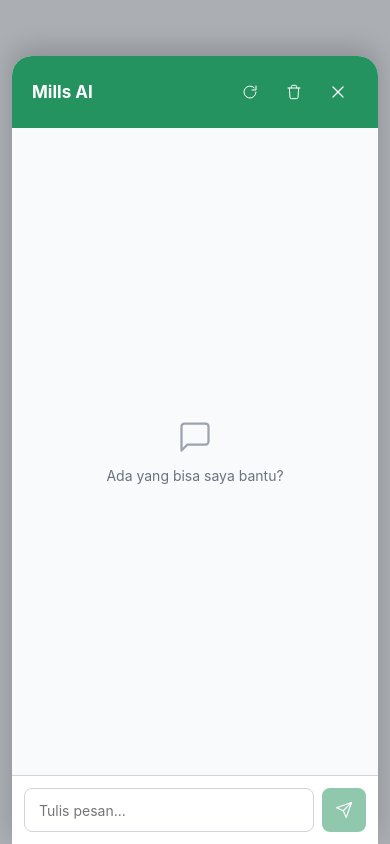
AiAssistantPanel › sending a message › shows an error message when sendInference rejects
Type "Halo" into the field with test id "ai-assistant-input". click: (169, 810)
box: 24,788 -> 314,832
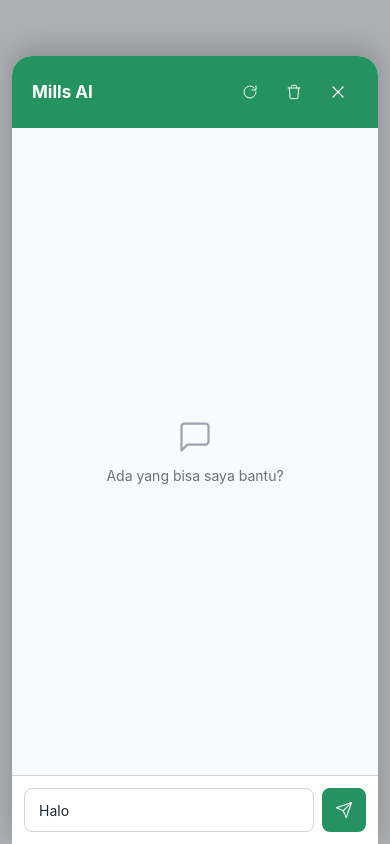
Submit the form, box 12,775 -> 378,843
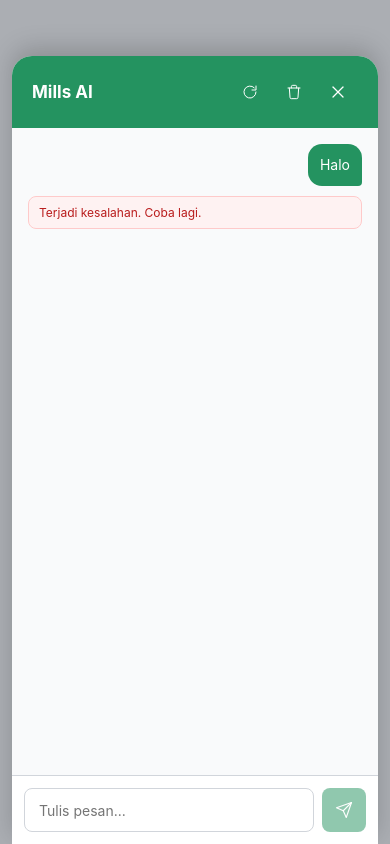
Check: the text with test id "ai-assistant-error" reads "Terjadi kesalahan. Coba lagi.", box 39,205 -> 202,220
